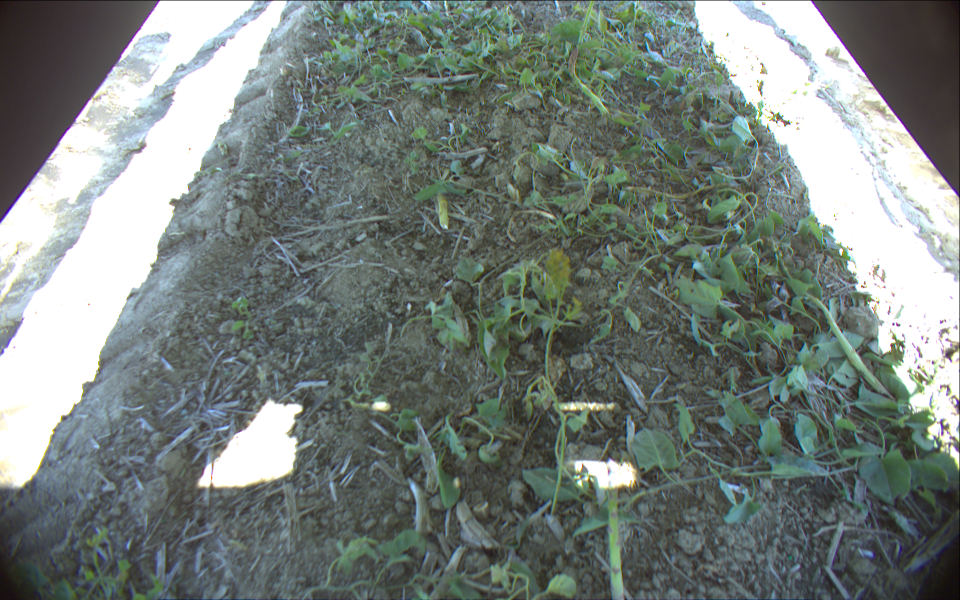aspa: (599, 479, 628, 600)
